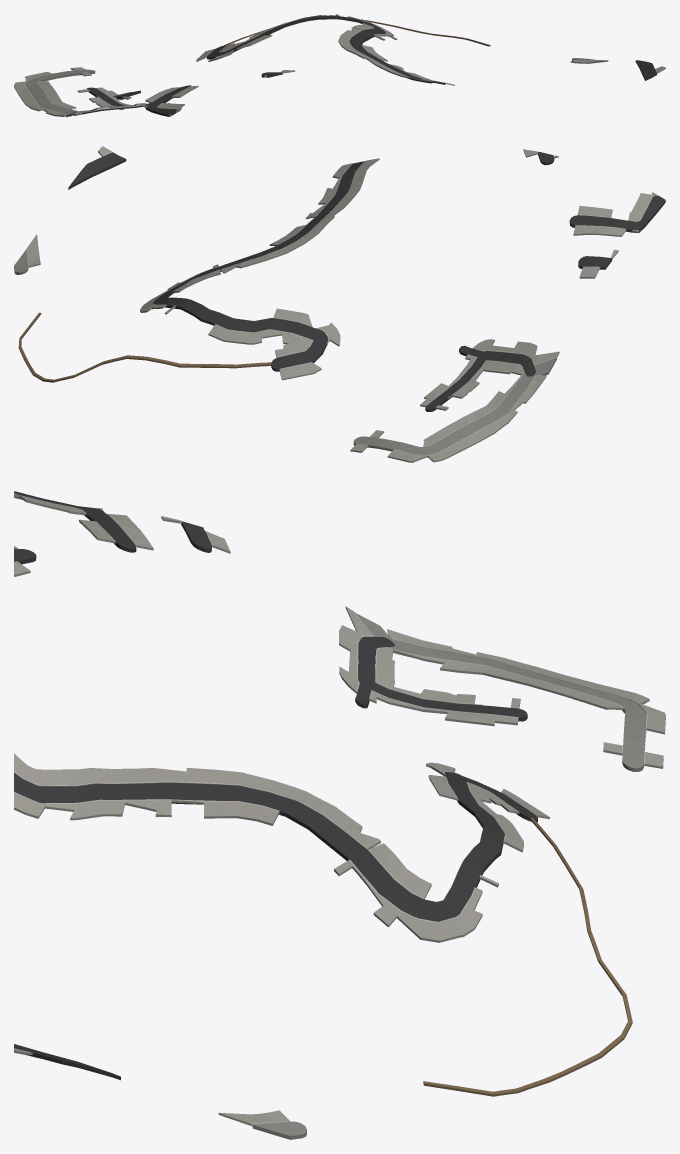
3 views of the same model, one above another, from view 1: azimuth 30°, elevation 25°; view 2: azimuth 150°, elevation 25°; view 3: azimuth 270°, elevation 25° (orthographic). The views are drawn at different scales.
Size of the model in its own units: 293 by 83.12 by 188.
